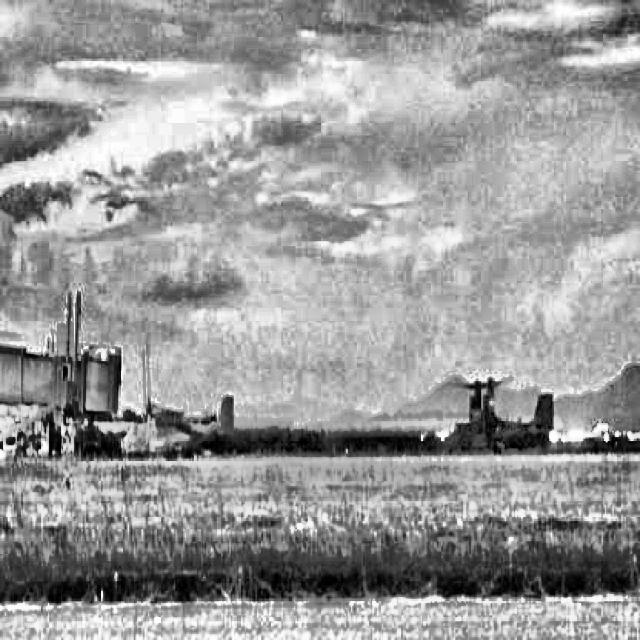V22: (119, 342, 235, 460), (442, 374, 555, 454)
